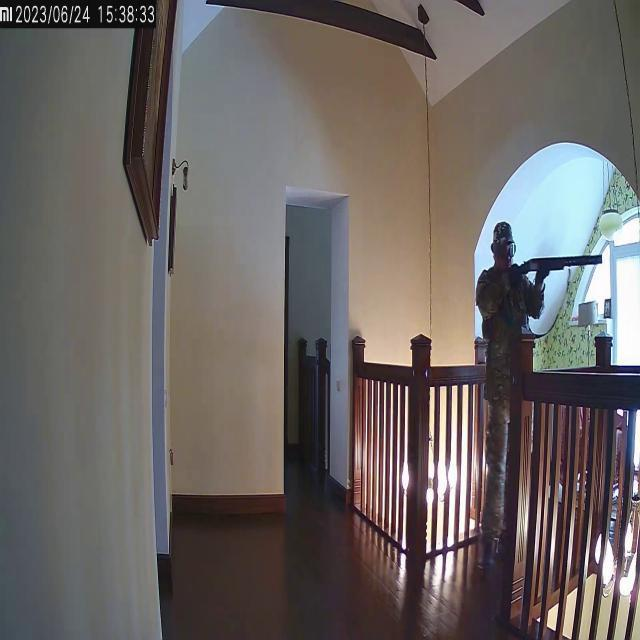pistol: (514, 256, 604, 274)
